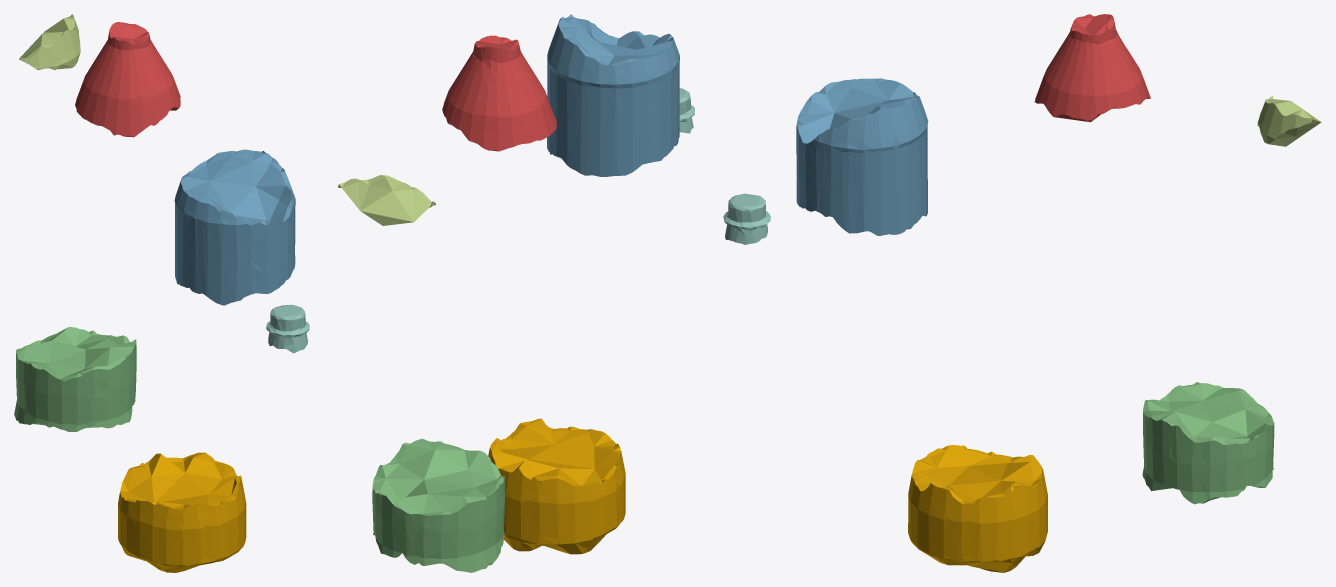
File: mode_8_6pcs_transformed.glb
3 views of the same model, side by side, from view 1: azimuth 30°, elevation 25°; view 2: azimuth 150°, elevation 25°; view 3: azimuth 270°, elevation 25° (orthographic). The views are drawn at different scales.
Parts seen in each view (by area): view 1: piece_2.obj, piece_0.obj, piece_3.obj, piece_1.obj, piece_5.obj, piece_4.obj; view 2: piece_2.obj, piece_3.obj, piece_0.obj, piece_1.obj, piece_5.obj, piece_4.obj; view 3: piece_2.obj, piece_0.obj, piece_3.obj, piece_1.obj, piece_5.obj, piece_4.obj.
Part boxes in pixels (x1,y1,x2,y2): piece_2.obj: [174, 149, 295, 305]; piece_0.obj: [118, 452, 246, 572]; piece_3.obj: [14, 327, 136, 431]; piece_1.obj: [75, 22, 180, 137]; piece_5.obj: [19, 14, 80, 70]; piece_4.obj: [266, 304, 309, 353]; piece_2.obj: [547, 14, 679, 176]; piece_3.obj: [372, 438, 504, 572]; piece_0.obj: [488, 418, 625, 554]; piece_1.obj: [442, 35, 557, 151]; piece_5.obj: [338, 175, 435, 225]; piece_4.obj: [679, 88, 694, 133]; piece_2.obj: [796, 78, 928, 235]; piece_0.obj: [908, 445, 1047, 572]; piece_3.obj: [1142, 382, 1274, 504]; piece_1.obj: [1034, 14, 1150, 122]; piece_5.obj: [1257, 96, 1321, 146]; piece_4.obj: [723, 193, 770, 244].
Bounding box in the file's own units: 0.3641 × 1.52 × 1.56.
